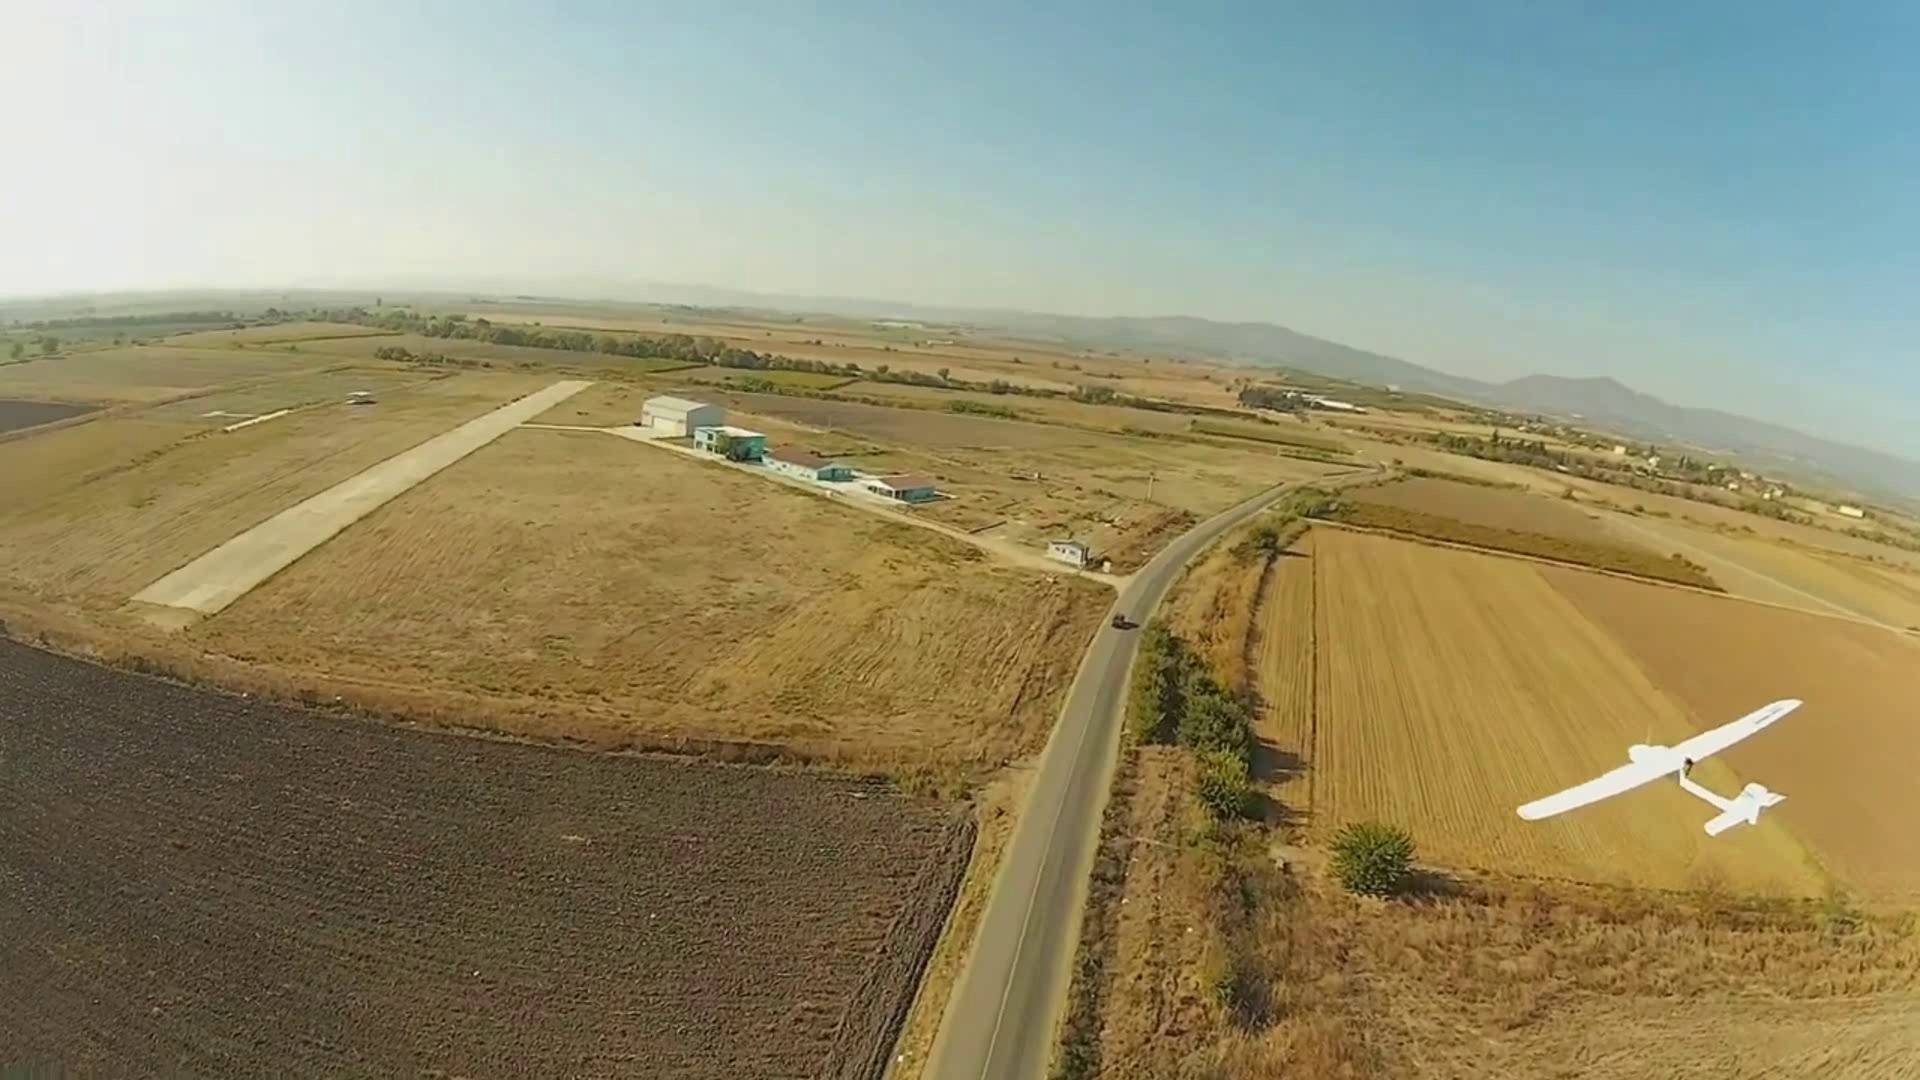airplane: (1516, 698, 1803, 837)
